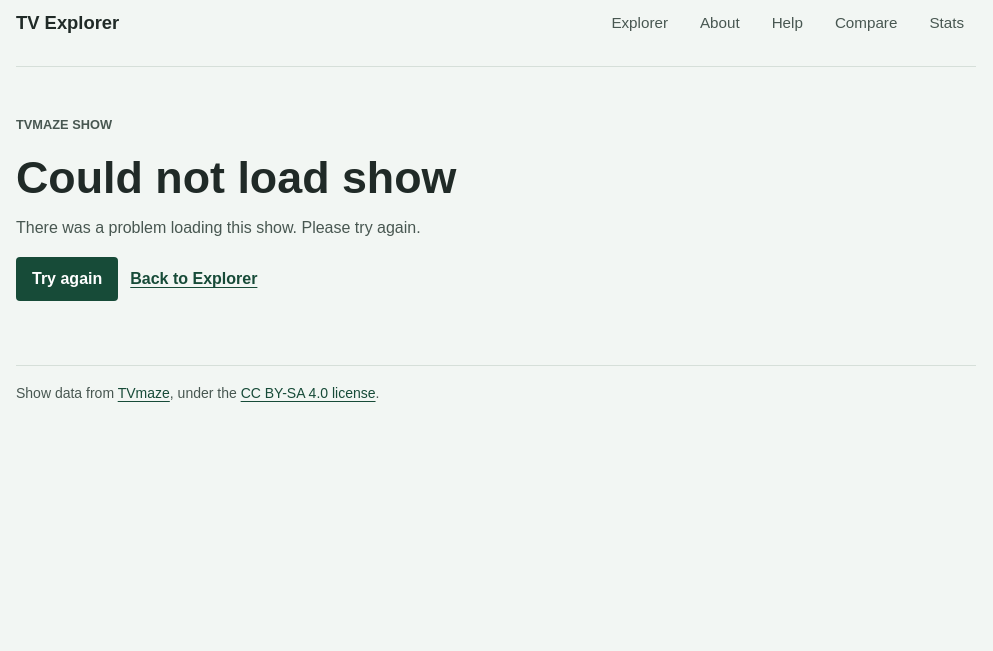
Scenario: show details route › retries the current show ID after a failure
Click the button "Try again" at (67, 279), box [16,257,118,301]
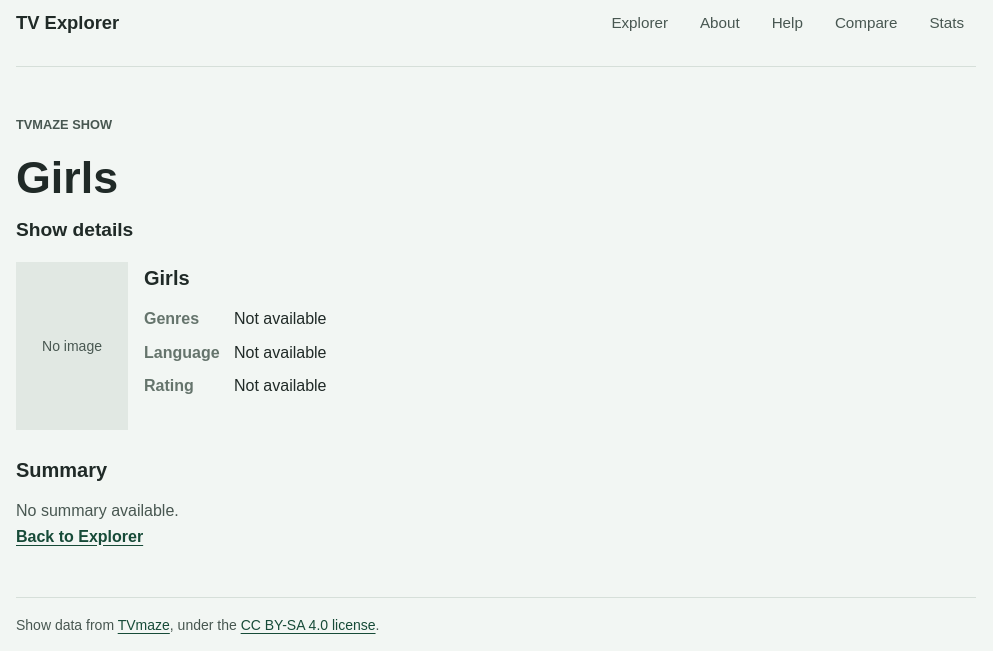
Expected: the 1st heading "Girls" is shown, [16,152,118,202]
